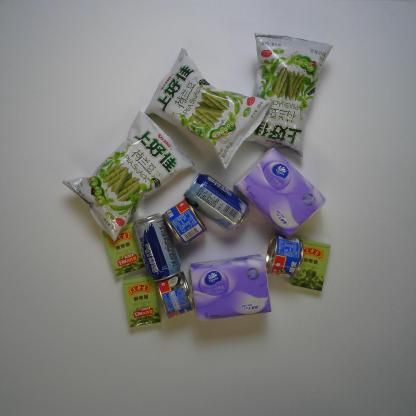Alcohol: (182, 171, 250, 232), (132, 212, 181, 282)
Candy: (101, 224, 145, 277), (289, 237, 331, 292), (122, 274, 161, 329)
Canned Food: (161, 198, 208, 246), (156, 271, 196, 320), (264, 233, 304, 278)
Puffed Food: (61, 108, 197, 244), (144, 48, 273, 170), (242, 32, 335, 162)
Tissue: (234, 148, 327, 238), (188, 253, 272, 321)
